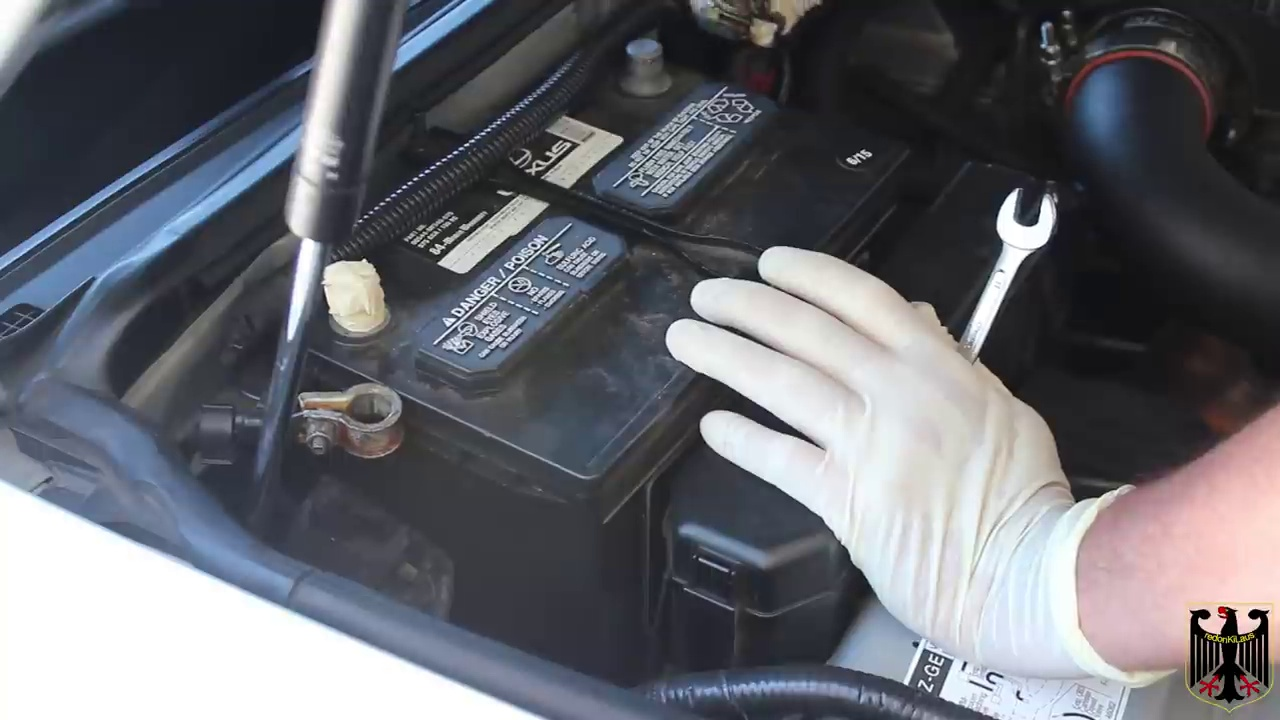battery: (284, 40, 916, 485)
